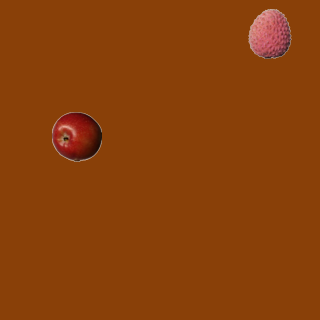Apple Braeburn: (51, 111, 101, 161)
Lychee: (244, 8, 294, 58)
